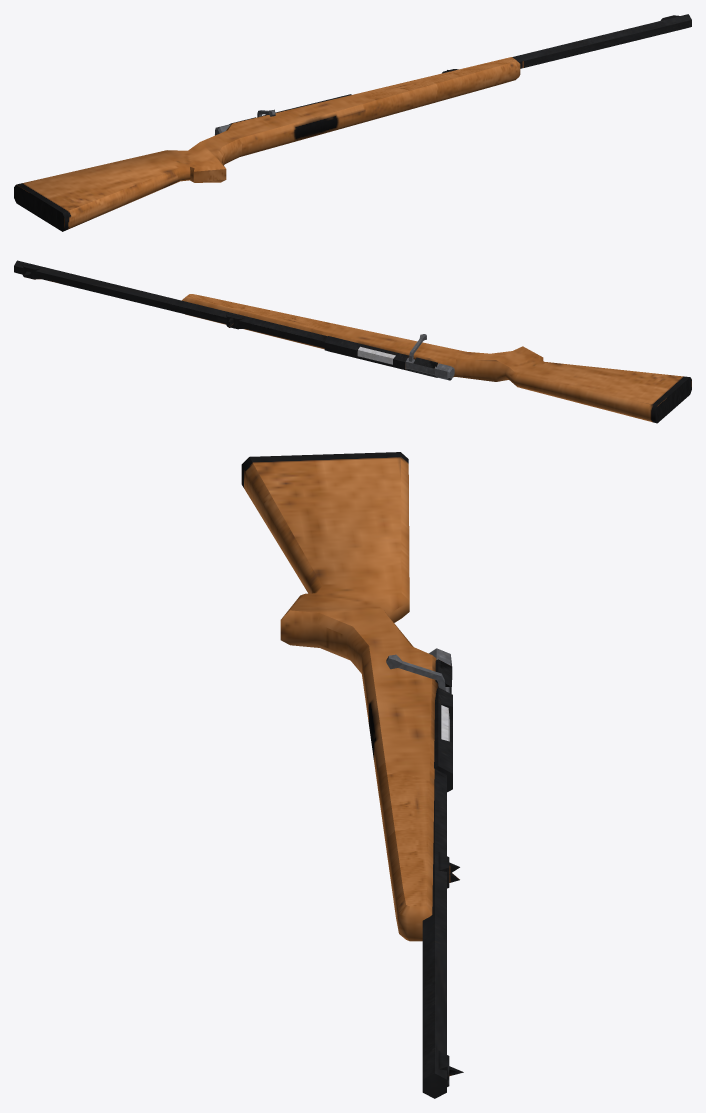
File: rifle.glb
3 renders of one model, top to bottom at view 1: azimuth 30°, elevation 25°; view 2: azimuth 150°, elevation 25°; view 3: azimuth 270°, elevation 25°, orthographic. The views are drawn at different scales.
Parts seen in each view (by area): view 1: hunting_rifle_01_hunting_rifle_0; view 2: hunting_rifle_01_hunting_rifle_0; view 3: hunting_rifle_01_hunting_rifle_0.
Boxes of the visible parts, x1,y1,x2,y2 form: hunting_rifle_01_hunting_rifle_0: (14, 14, 691, 231); hunting_rifle_01_hunting_rifle_0: (14, 260, 691, 423); hunting_rifle_01_hunting_rifle_0: (241, 452, 463, 1098).
Bounding box in the file's own units: 2.06 × 0.1006 × 0.3148.
1 material, 1 textured.
